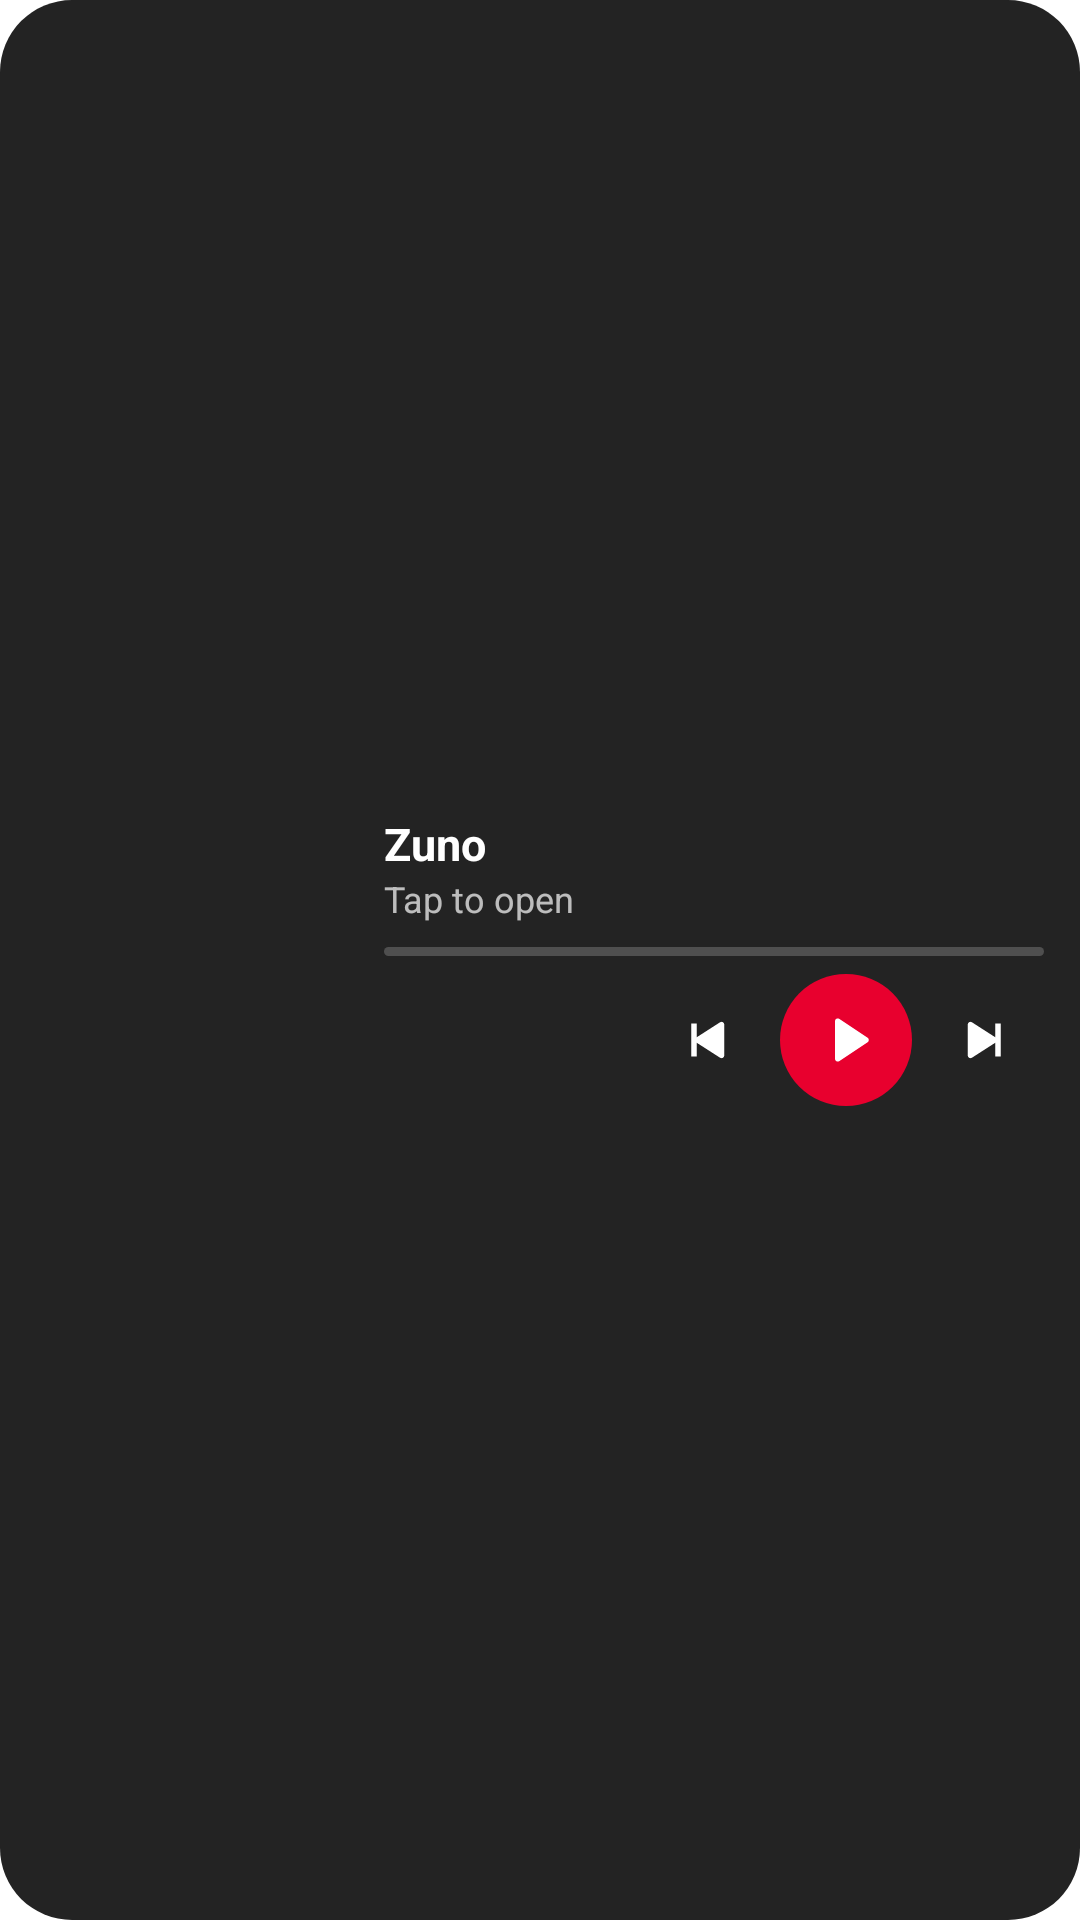

Where to tap for icons on this 1080 × 1920 app screen, as (x,y):
Next: (984,1040)
Previous: (708,1040)
